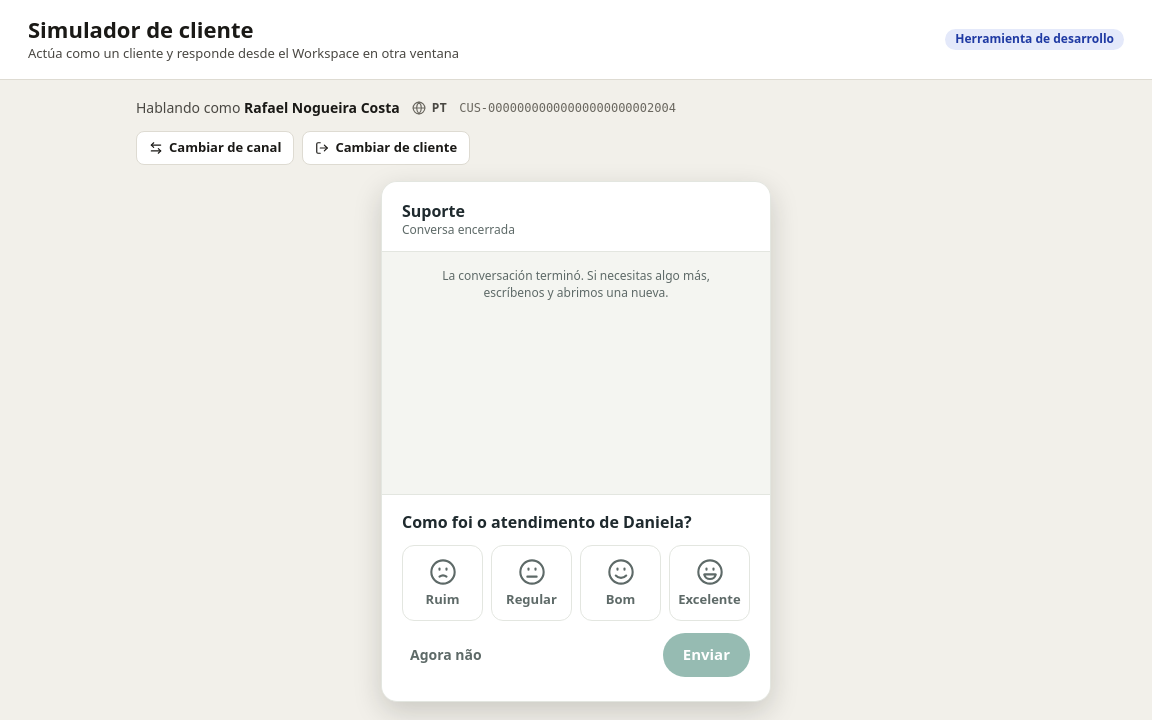
satisfaction survey (slice 7) › speaks Portuguese to a Brazilian customer
This screenshot has width=1152, height=720.
Check: the button "Agora não" is shown, box [402, 635, 490, 675]
Click the radio button labelled "Bom": [620, 583] box [580, 545, 661, 621]
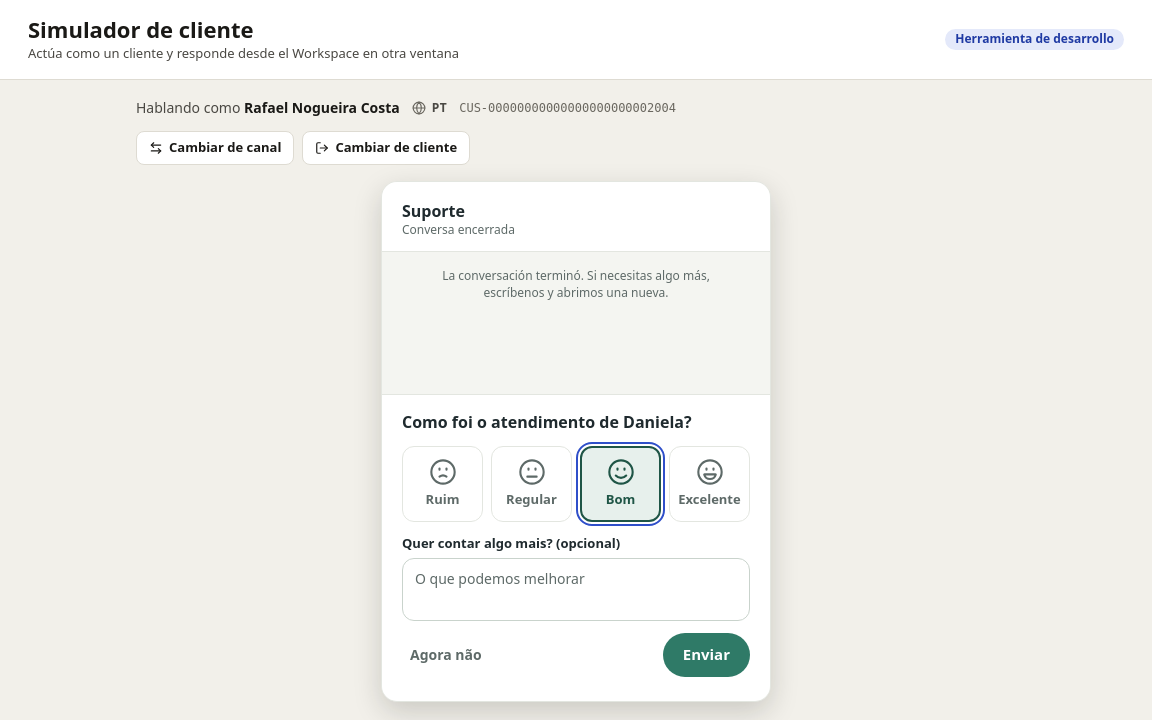
Click the button "Enviar": [706, 655] box [663, 633, 750, 677]
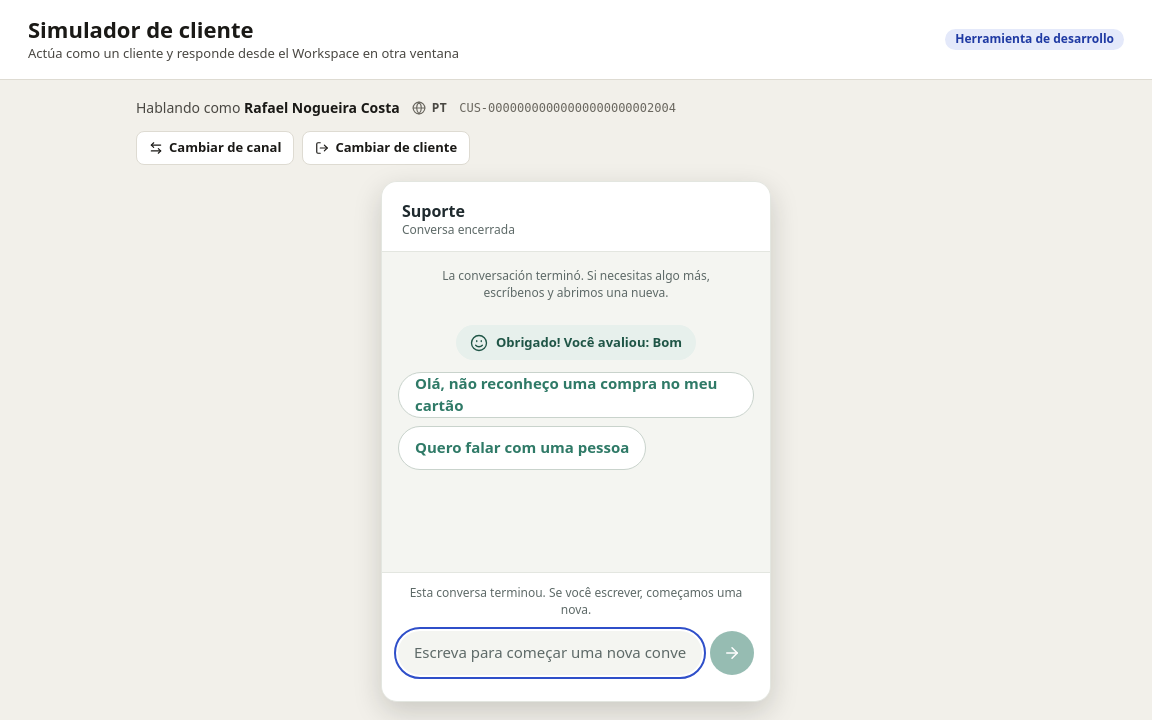
Check: the text "Obrigado! Você avaliou: Bom" is shown, box [456, 325, 696, 360]
